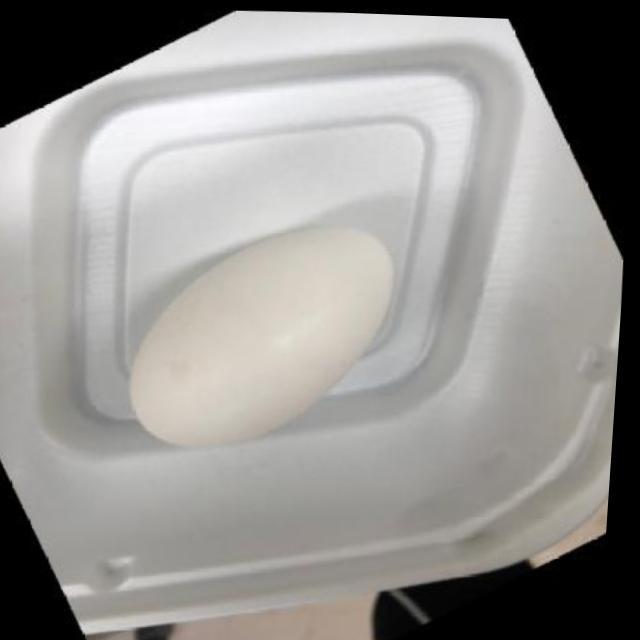egg: (121, 205, 406, 455)
